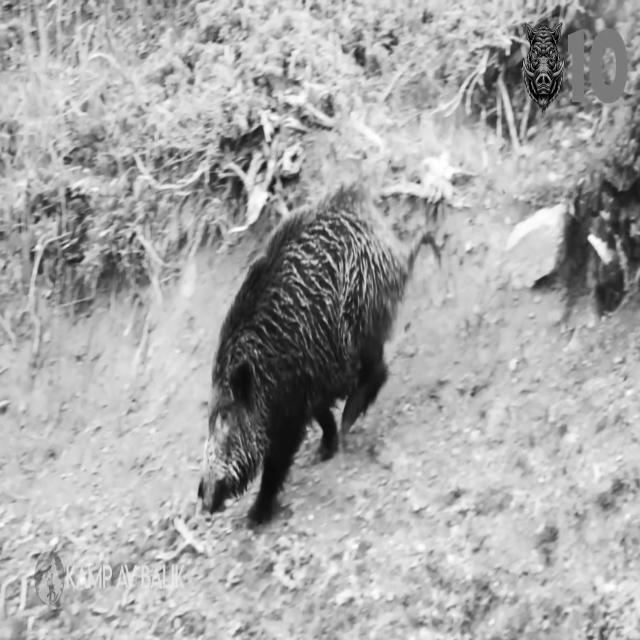boar: (197, 186, 420, 525)
